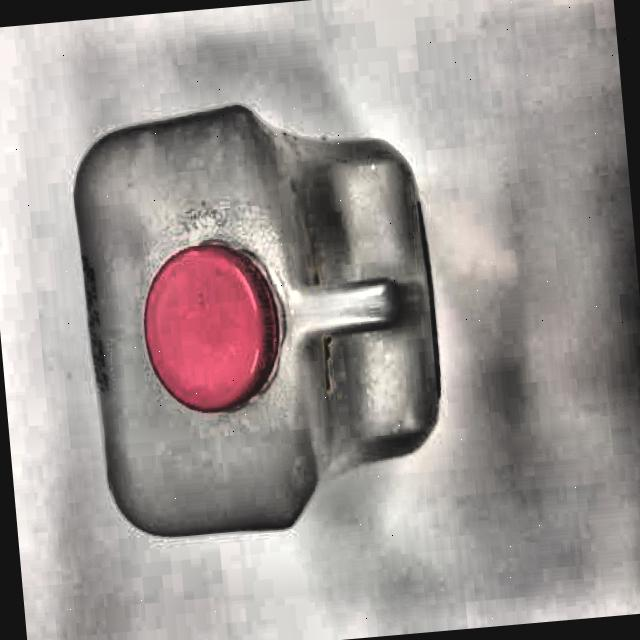plastic: (64, 90, 454, 549)
